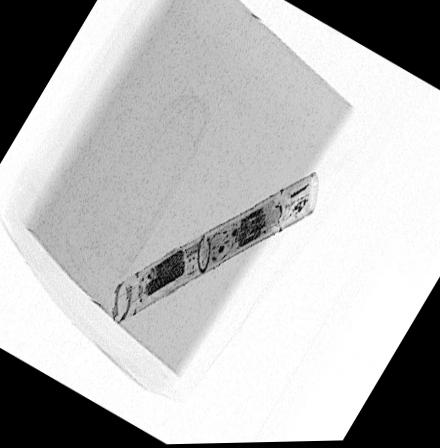Baton: (111, 171, 322, 323)
